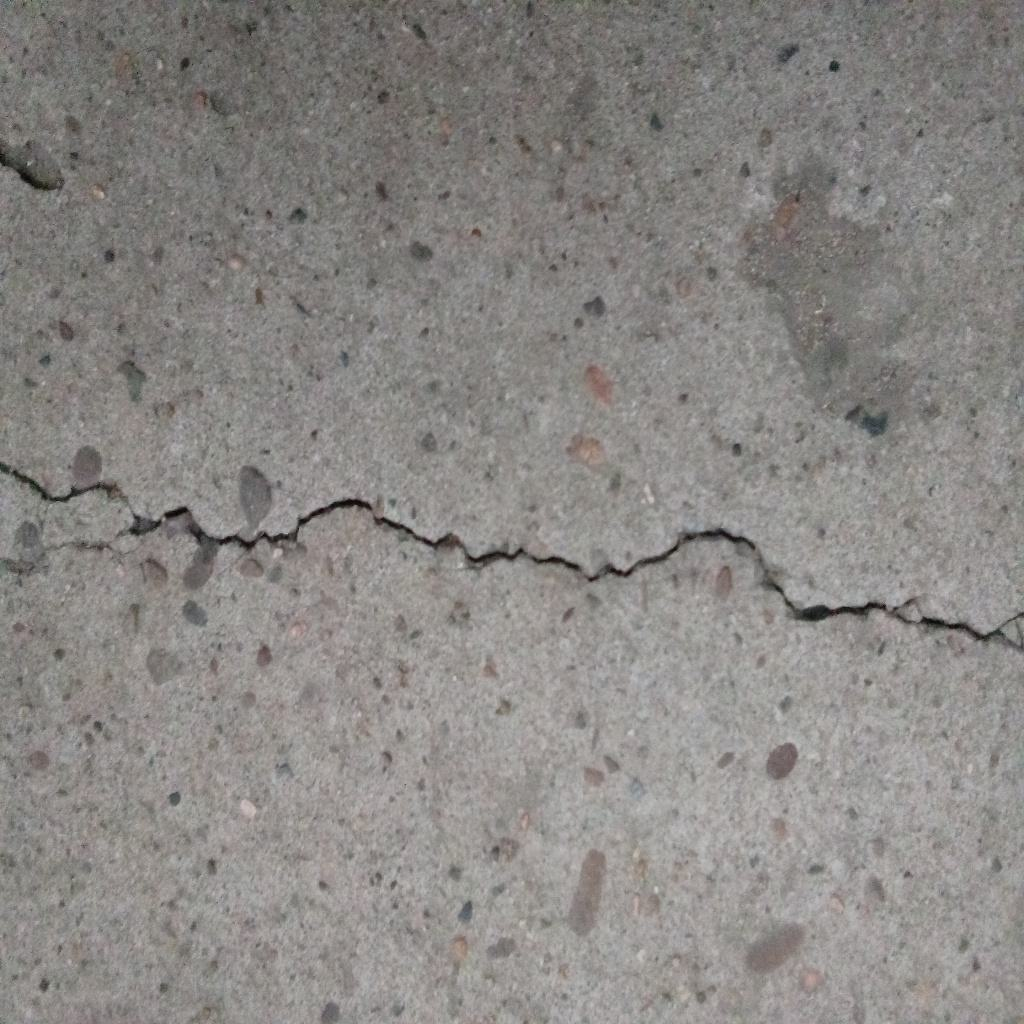Crack: (1, 461, 1024, 651)
Spalling: (1, 138, 66, 192)
